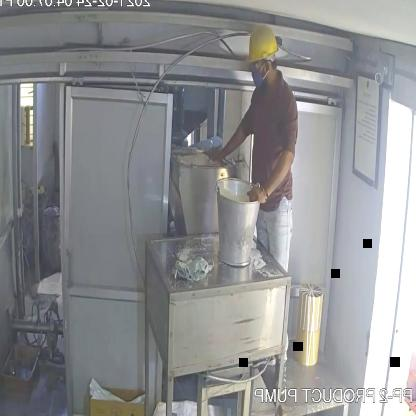helmet: (240, 19, 281, 78)
